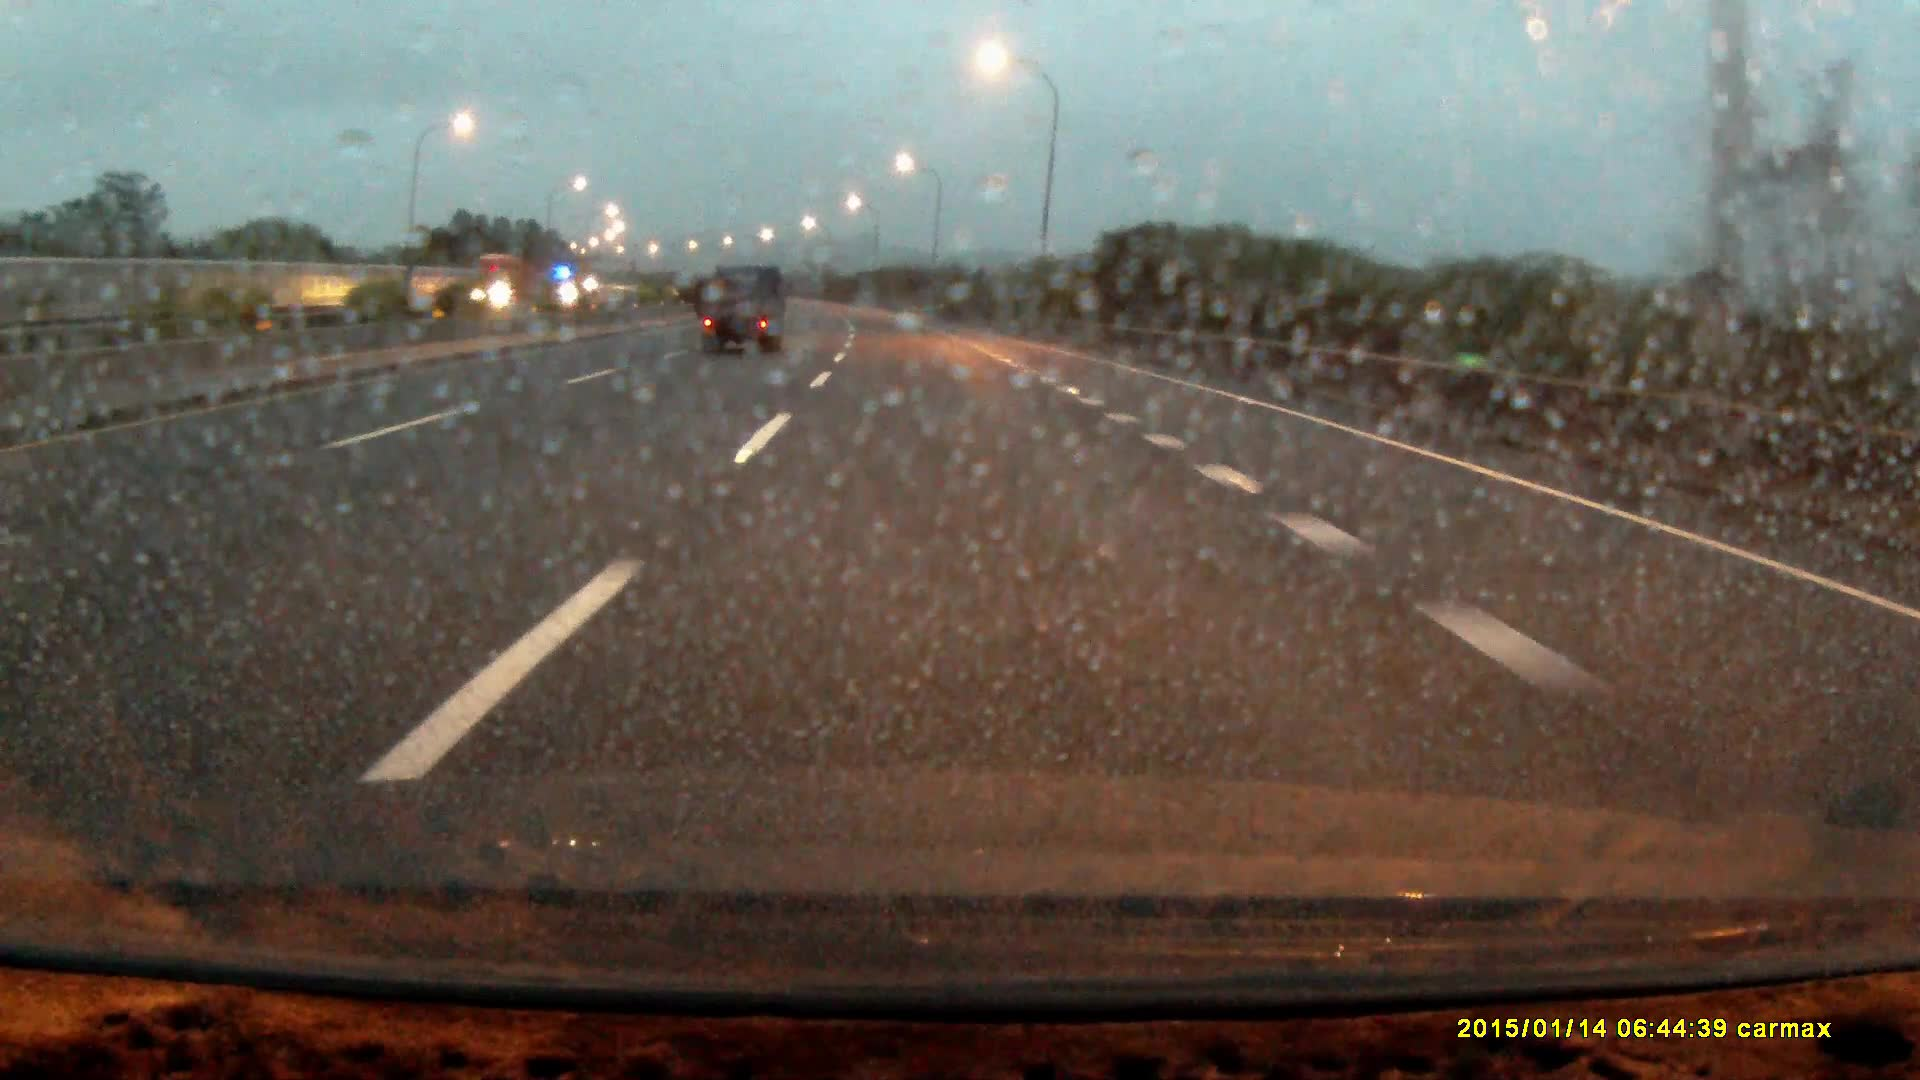vehicle: (704, 266, 783, 360), (471, 251, 537, 310)
